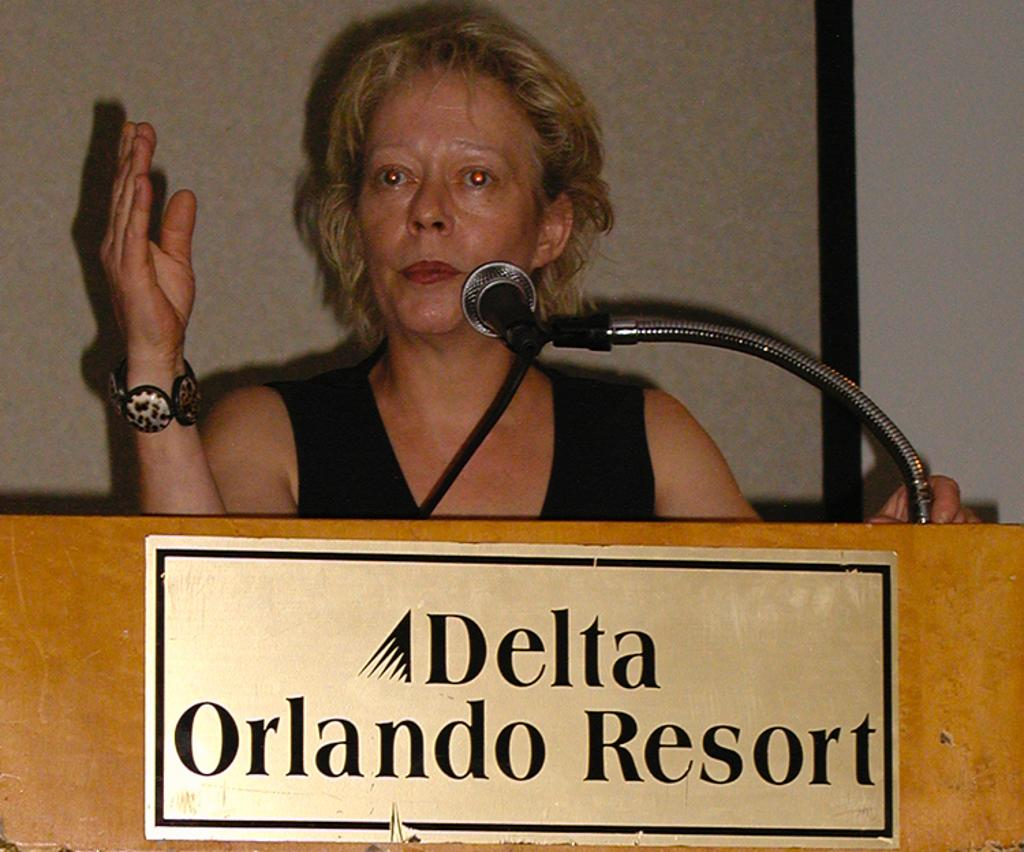face: (370, 64, 538, 336)
